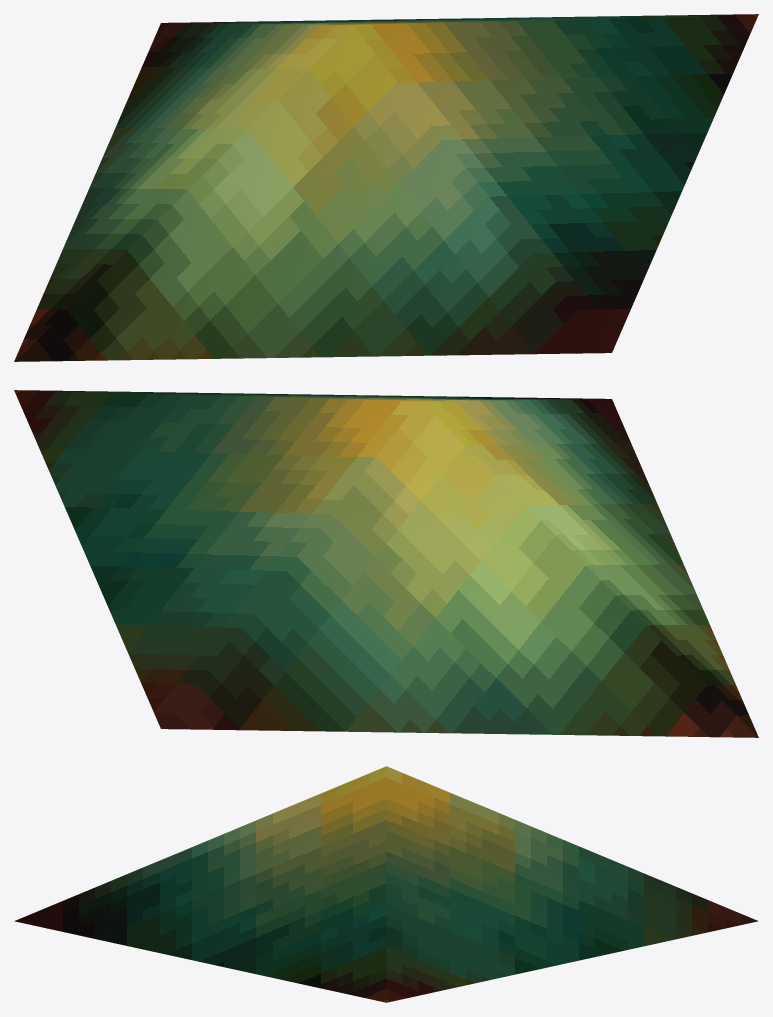
File: frst_fngi_mushroom_blue_sm_l2.fbx
3 renders of one model, top to bottom at view 1: azimuth 30°, elevation 25°; view 2: azimuth 150°, elevation 25°; view 3: azimuth 270°, elevation 25°, orthographic. The views are drawn at different scales.
Visible parts, largest first — view 1: mesh_node; view 2: mesh_node; view 3: mesh_node.
Boxes of the visible parts, x1=… form: mesh_node: x1=14, y1=14, x2=758, y2=361; mesh_node: x1=14, y1=390, x2=758, y2=737; mesh_node: x1=14, y1=766, x2=758, y2=1002.
Bounding box in the file's own units: 0.2265 × 0.0737 × 0.2375.
1 material, 1 textured.
